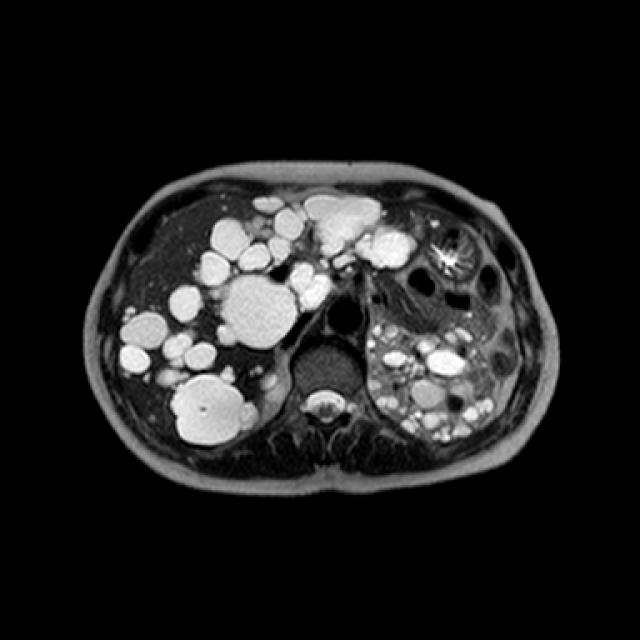sag: (260, 355, 290, 411)
sol: (363, 314, 498, 443)
